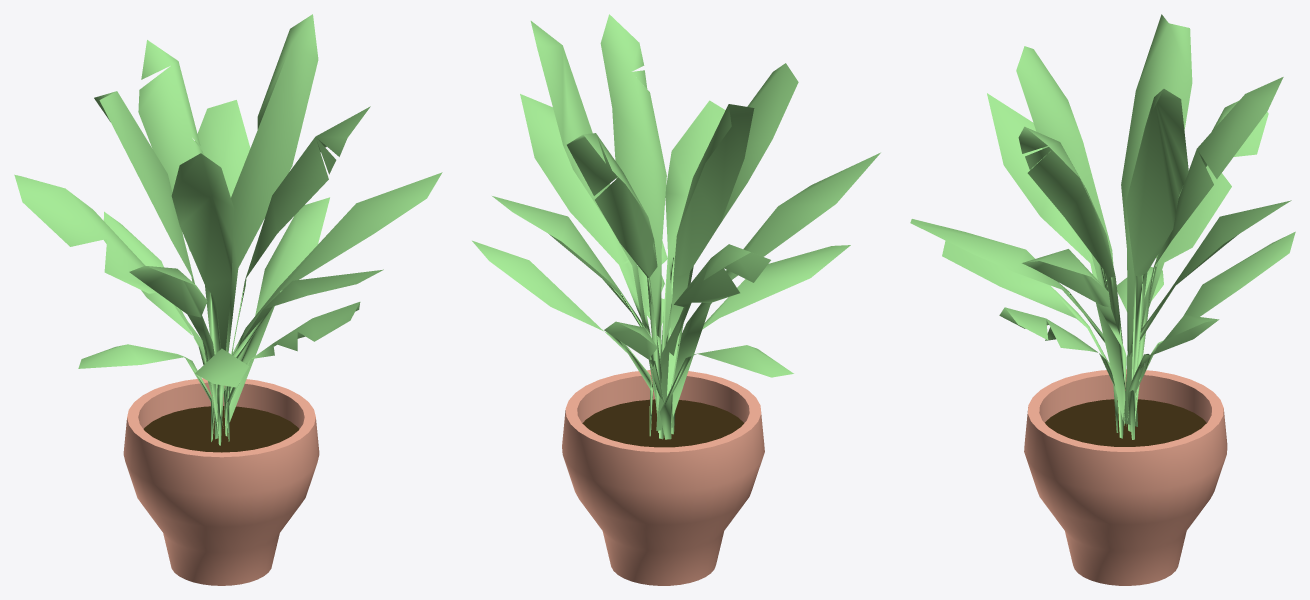
Rendered from PlantPottedchange.fbx.
The picture shows the model from 3 angles, left to right: view 1: azimuth 30°, elevation 25°; view 2: azimuth 150°, elevation 25°; view 3: azimuth 270°, elevation 25°; orthographic projection. The views are drawn at different scales.
Parts seen in each view (by area): view 1: BananaTree.001, Cylinder.044, Cylinder.045; view 2: BananaTree.001, Cylinder.044, Cylinder.045; view 3: BananaTree.001, Cylinder.044, Cylinder.045.
Part boxes in pixels (x1=…): BananaTree.001: x1=14, y1=14, x2=442, y2=445; Cylinder.044: x1=123, y1=378, x2=319, y2=585; Cylinder.045: x1=143, y1=406, x2=299, y2=452; BananaTree.001: x1=472, y1=14, x2=880, y2=439; Cylinder.044: x1=562, y1=370, x2=764, y2=585; Cylinder.045: x1=582, y1=399, x2=744, y2=447; BananaTree.001: x1=910, y1=14, x2=1295, y2=439; Cylinder.044: x1=1024, y1=369, x2=1227, y2=585; Cylinder.045: x1=1045, y1=399, x2=1206, y2=446.
Size of the model in its own units: 57.13 by 84.1 by 55.36.
